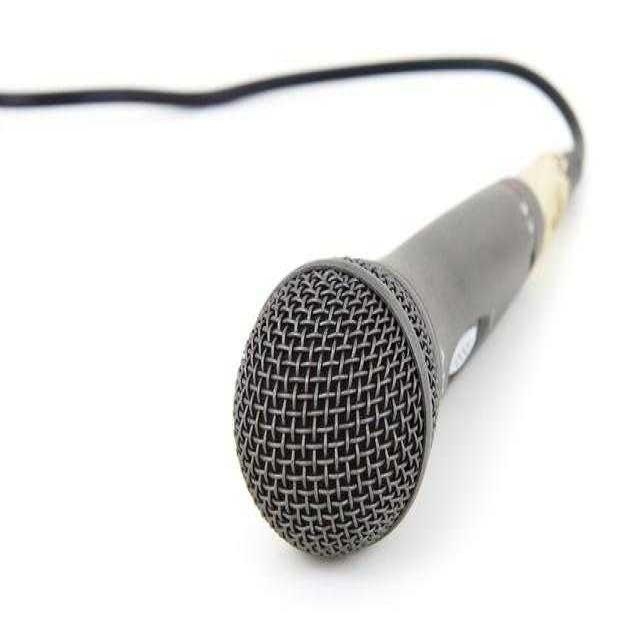microphone: (231, 142, 567, 560)
